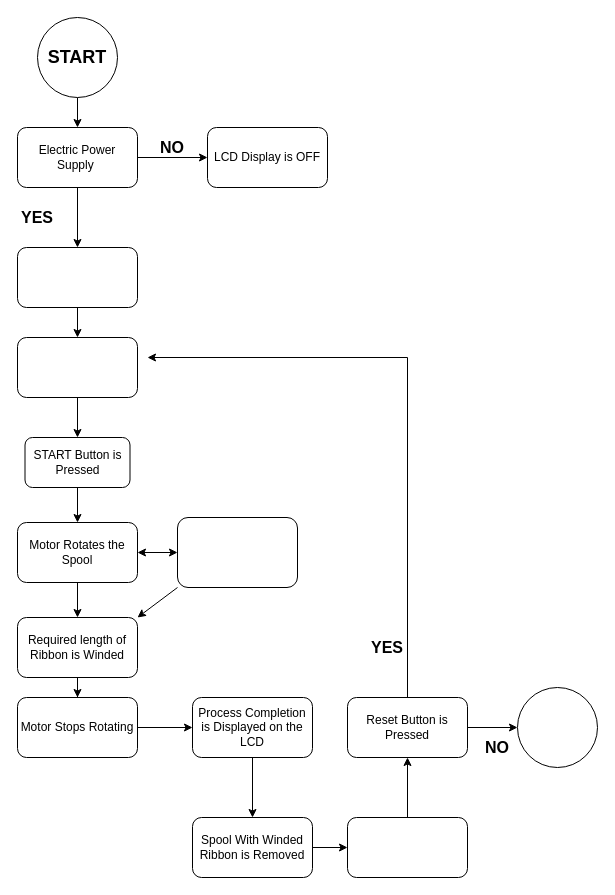
Some shapes in this 615 by 895 pixel diagram are drawn without their labels. Each missing label, with the centre of its shape:
Empty Spool is Reinserted: the point at 407,847
Input of Length: the point at 77,367
LCD Display Turns ON: the point at 77,277
Motor starts rotating untill ribbon of that length gets winded: the point at 237,552
STOP: the point at 557,727
